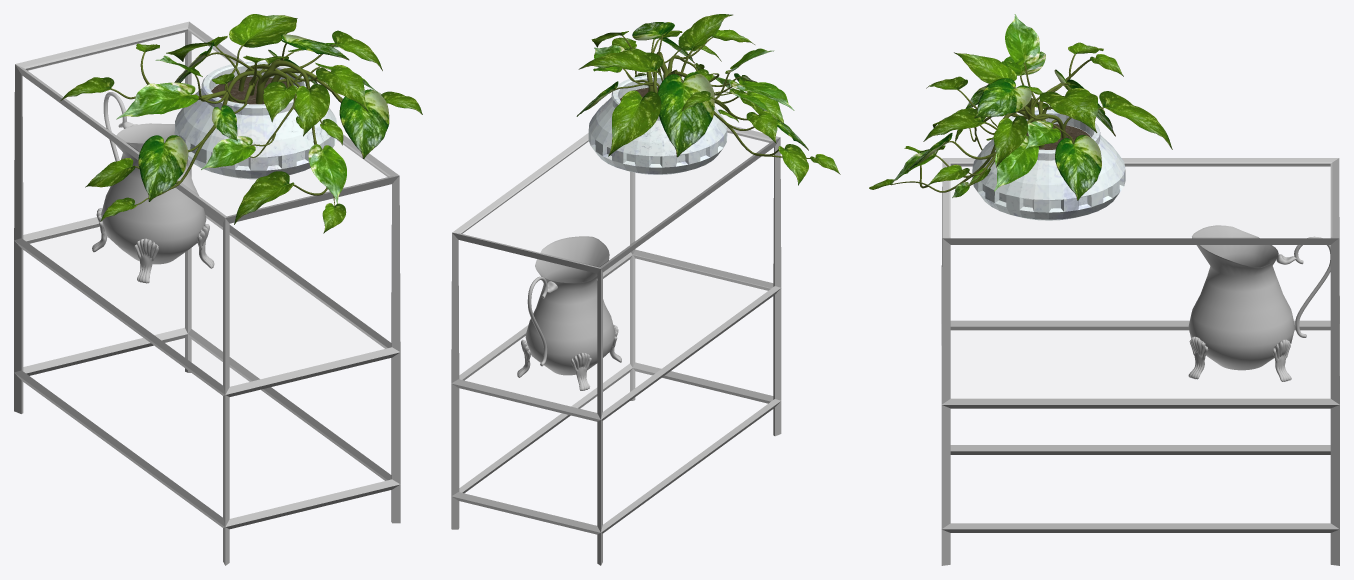
The model's file is LilyOnStand-transformed.glb.
3 renders of one model, left to right at view 1: azimuth 30°, elevation 25°; view 2: azimuth 150°, elevation 25°; view 3: azimuth 270°, elevation 25°, orthographic. The views are drawn at different scales.
Visible parts, largest first — view 1: stand, glass panel, Plane.005, glass panel.001, Circle, vase, IVY_Curve.004, Circle - stage 04 mirror applied and sculpted; view 2: stand, glass panel, glass panel.001, Plane.005, vase, Circle, IVY_Curve.004, Circle - stage 04 mirror applied and sculpted, HANDLE; view 3: stand, glass panel, glass panel.001, Plane.005, vase, Circle, IVY_Curve.004, Circle - stage 04 mirror applied and sculpted.
Part boxes in pixels (left/top/right/bottom): stand: left=14, top=21, right=400, bottom=565; glass panel: left=26, top=215, right=386, bottom=386; Plane.005: left=60, top=14, right=422, bottom=233; glass panel.001: left=24, top=27, right=389, bottom=215; Circle: left=174, top=61, right=336, bottom=179; vase: left=101, top=123, right=206, bottom=264; IVY_Curve.004: left=111, top=43, right=342, bottom=206; Circle - stage 04 mirror applied and sculpted: left=92, top=208, right=214, bottom=283; stand: left=451, top=125, right=781, bottom=565; glass panel: left=463, top=255, right=770, bottom=412; glass panel.001: left=460, top=129, right=771, bottom=266; Plane.005: left=576, top=14, right=840, bottom=185; vase: left=525, top=236, right=615, bottom=375; Circle: left=588, top=74, right=727, bottom=174; IVY_Curve.004: left=614, top=34, right=810, bottom=158; Circle - stage 04 mirror applied and sculpted: left=517, top=325, right=621, bottom=390; HANDLE: left=527, top=276, right=547, bottom=366; stand: left=941, top=158, right=1339, bottom=565; glass panel: left=951, top=326, right=1330, bottom=398; glass panel.001: left=949, top=162, right=1331, bottom=236; Plane.005: left=869, top=14, right=1172, bottom=200; vase: left=1188, top=225, right=1295, bottom=370; Circle: left=972, top=109, right=1125, bottom=220; IVY_Curve.004: left=891, top=54, right=1103, bottom=192; Circle - stage 04 mirror applied and sculpted: left=1188, top=336, right=1291, bottom=381.
Bounding box in the file's own units: 0.5003 × 0.7995 × 0.7465.
Materials: 6 (4 with a texture image).
